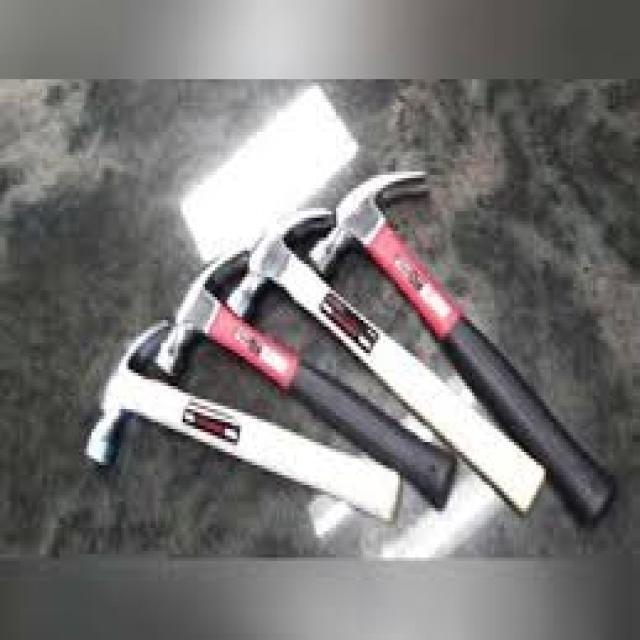hammer: (306, 163, 622, 536), (220, 205, 548, 524), (152, 242, 461, 520), (84, 315, 400, 533)
